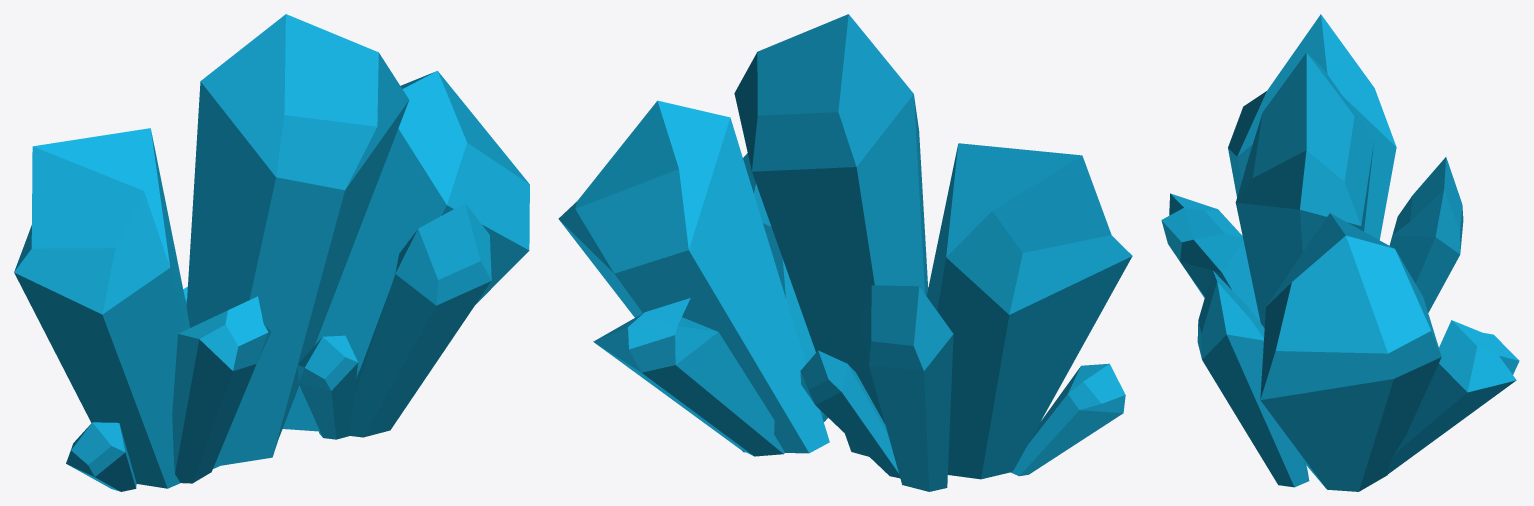
Rendered from Minerals.fbx.
3 renders of one model, left to right at view 1: azimuth 30°, elevation 25°; view 2: azimuth 150°, elevation 25°; view 3: azimuth 270°, elevation 25°, orthographic. The views are drawn at different scales.
Visible parts, largest first — view 1: Minerals; view 2: Minerals; view 3: Minerals.
Part boxes in pixels (x1,y1,x2,y2): Minerals: [14, 14, 529, 491]; Minerals: [558, 14, 1132, 491]; Minerals: [1161, 14, 1519, 491].
Size of the model in its own units: 390 by 303 by 249.
